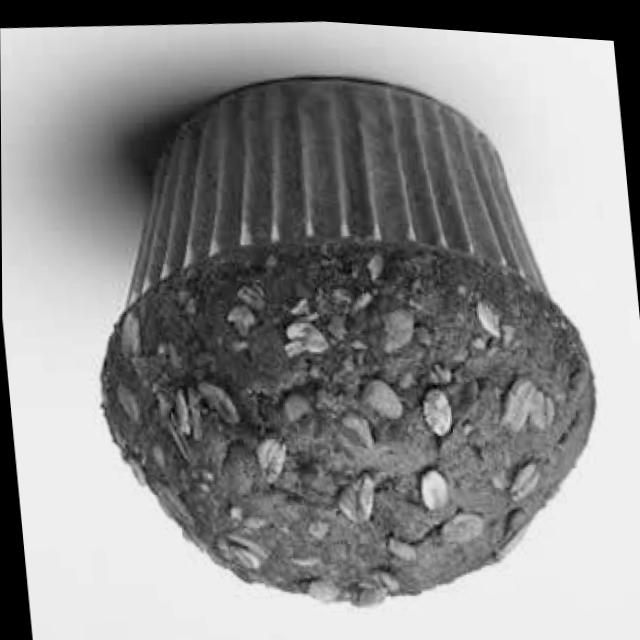炸货点心: (21, 1, 640, 640)
面包点心: (21, 1, 640, 640)
